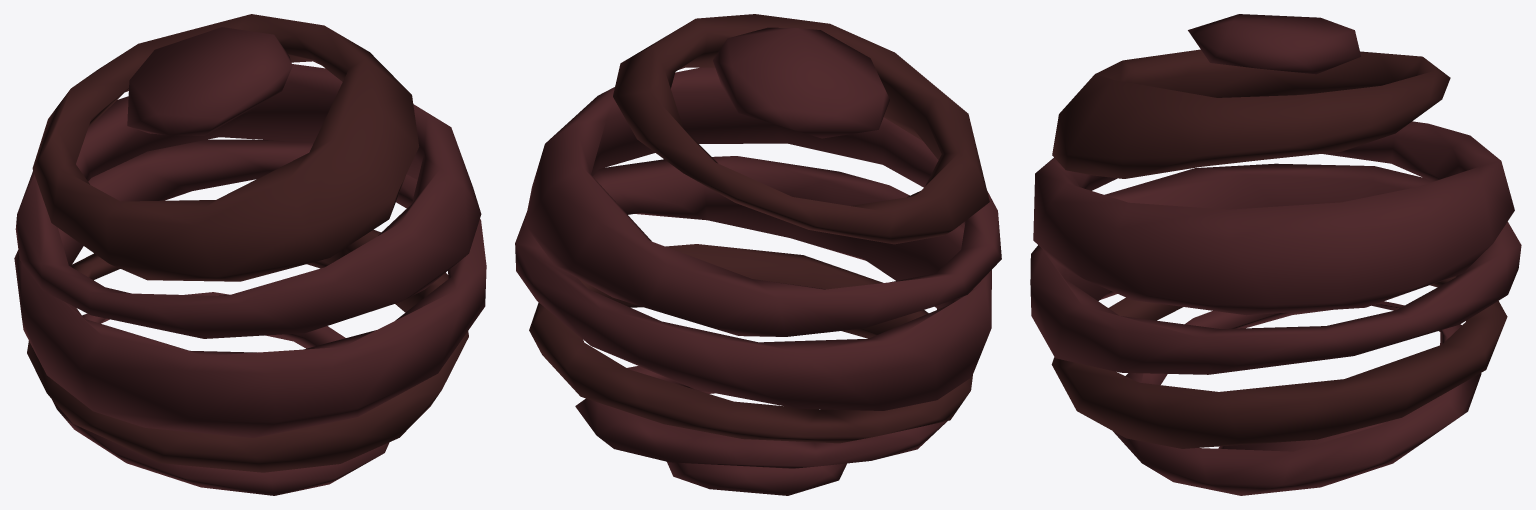
Rendered from Planet_Acc_Cirrus_Low.fbx.
3 renders of one model, left to right at view 1: azimuth 30°, elevation 25°; view 2: azimuth 150°, elevation 25°; view 3: azimuth 270°, elevation 25°, orthographic. The views are drawn at different scales.
Parts seen in each view (by area): view 1: CirrusLow; view 2: CirrusLow; view 3: CirrusLow.
Boxes of the visible parts, x1,y1,x2,y2 form: CirrusLow: (14,14,486,495); CirrusLow: (515,14,1001,495); CirrusLow: (1030,14,1521,495).
Size of the model in its own units: 2.12 by 2.11 by 2.1.
